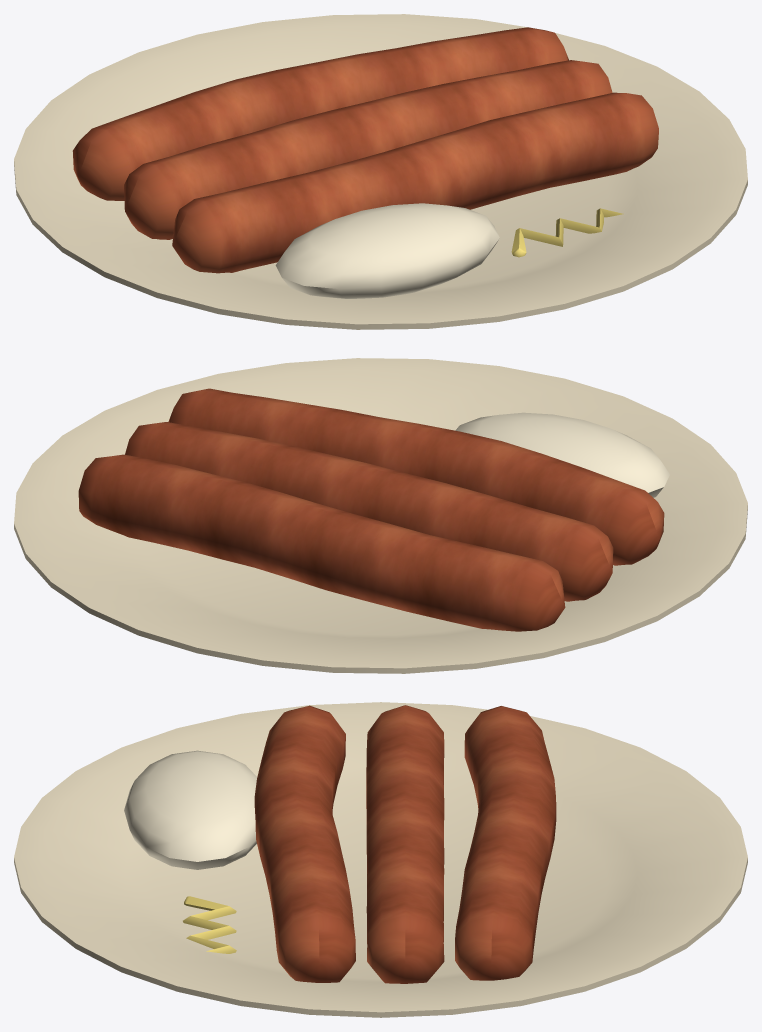
File: deli_sausage_plate.glb
3 renders of one model, top to bottom at view 1: azimuth 30°, elevation 25°; view 2: azimuth 150°, elevation 25°; view 3: azimuth 270°, elevation 25°, orthographic.
Parts seen in each view (by area): view 1: deli_sausage_plate; view 2: deli_sausage_plate; view 3: deli_sausage_plate.
Boxes of the visible parts, x1,y1,x2,y2 form: deli_sausage_plate: [14, 14, 747, 329]; deli_sausage_plate: [14, 358, 747, 673]; deli_sausage_plate: [14, 702, 747, 1017].
Size of the model in its own units: 0.3 by 0.044 by 0.3.
Materials: 4 (1 with a texture image).
